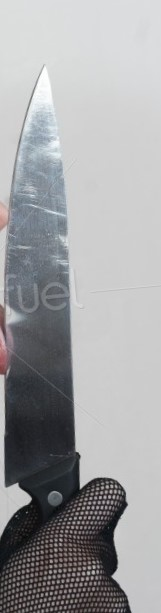knife: (1, 60, 85, 557)
